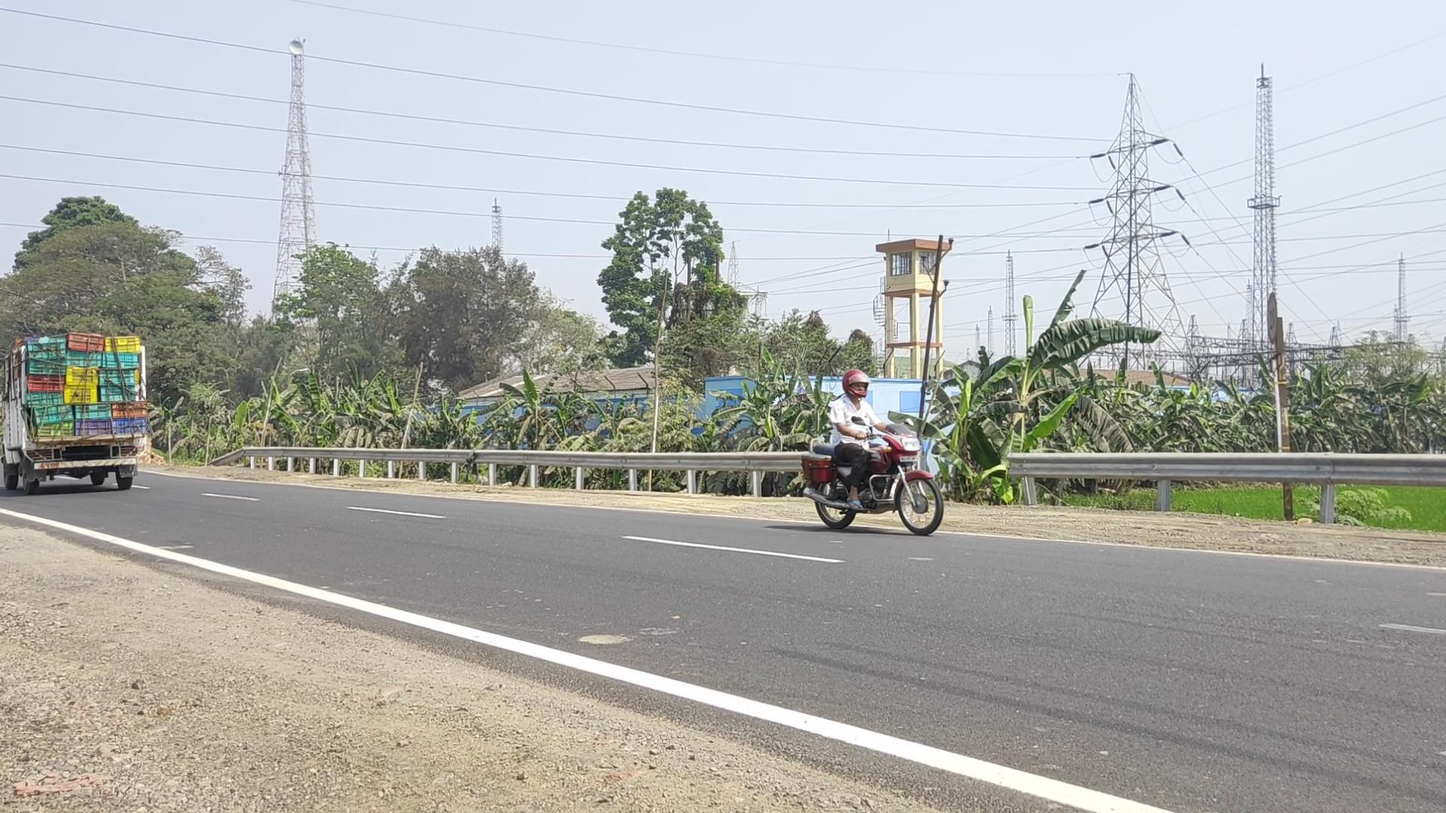bike: (800, 370, 944, 537)
truck: (1, 334, 148, 496)
